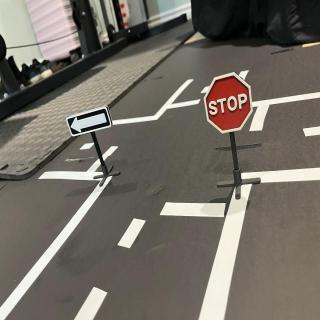sign_oneway_left: (66, 103, 115, 139)
sign_stop: (204, 72, 254, 135)
